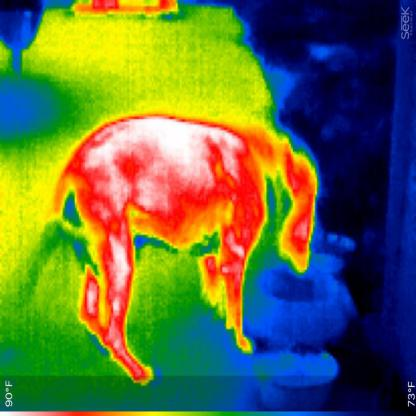dog: (52, 110, 322, 386)
